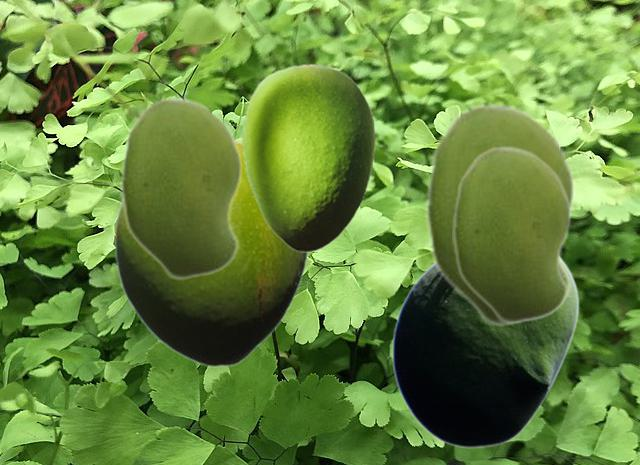green_mango: (113, 137, 309, 367), (391, 257, 579, 447), (425, 102, 575, 327), (241, 63, 375, 251), (120, 96, 242, 280), (452, 145, 571, 324)
